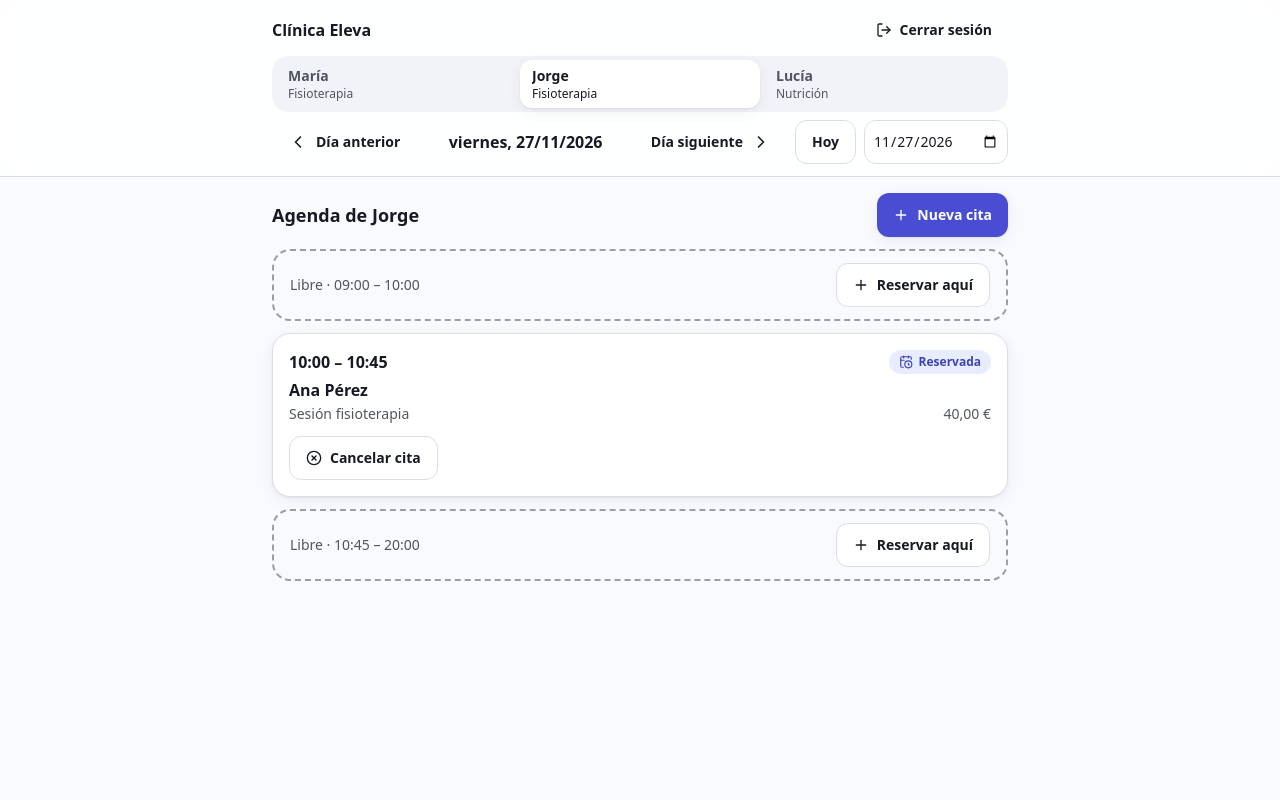
Test: DialogoAltaCita › [001][US2-AC1] al reservar cierra el diálogo, recarga la agenda y muestra «Cita reservada para Ana Pérez a las 10:45.»
Click the button "Reservar aquí" in the row of "10:45 – 20:00": click(913, 545) [836, 523, 990, 567]
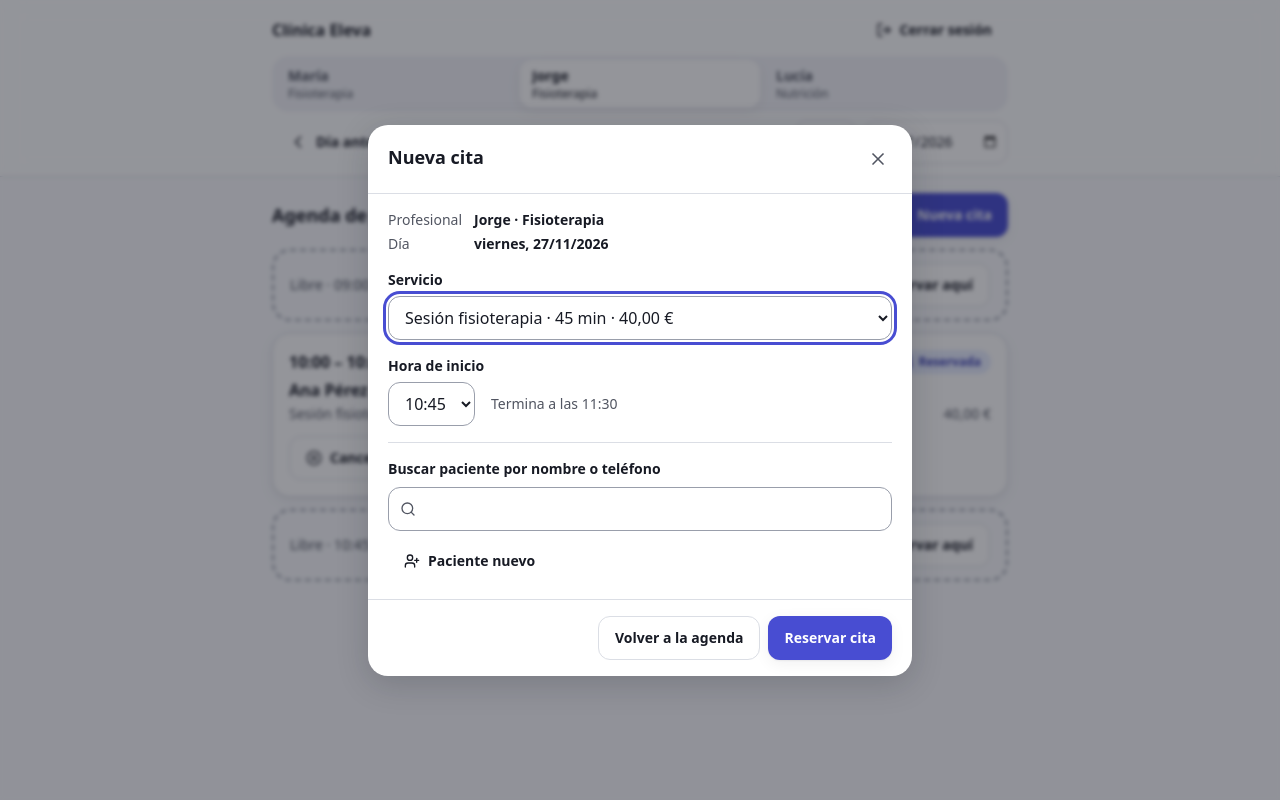
In the dropdown labelled "Buscar paciente por nombre o teléfono": (640, 508) [388, 486, 892, 530], type "ana"
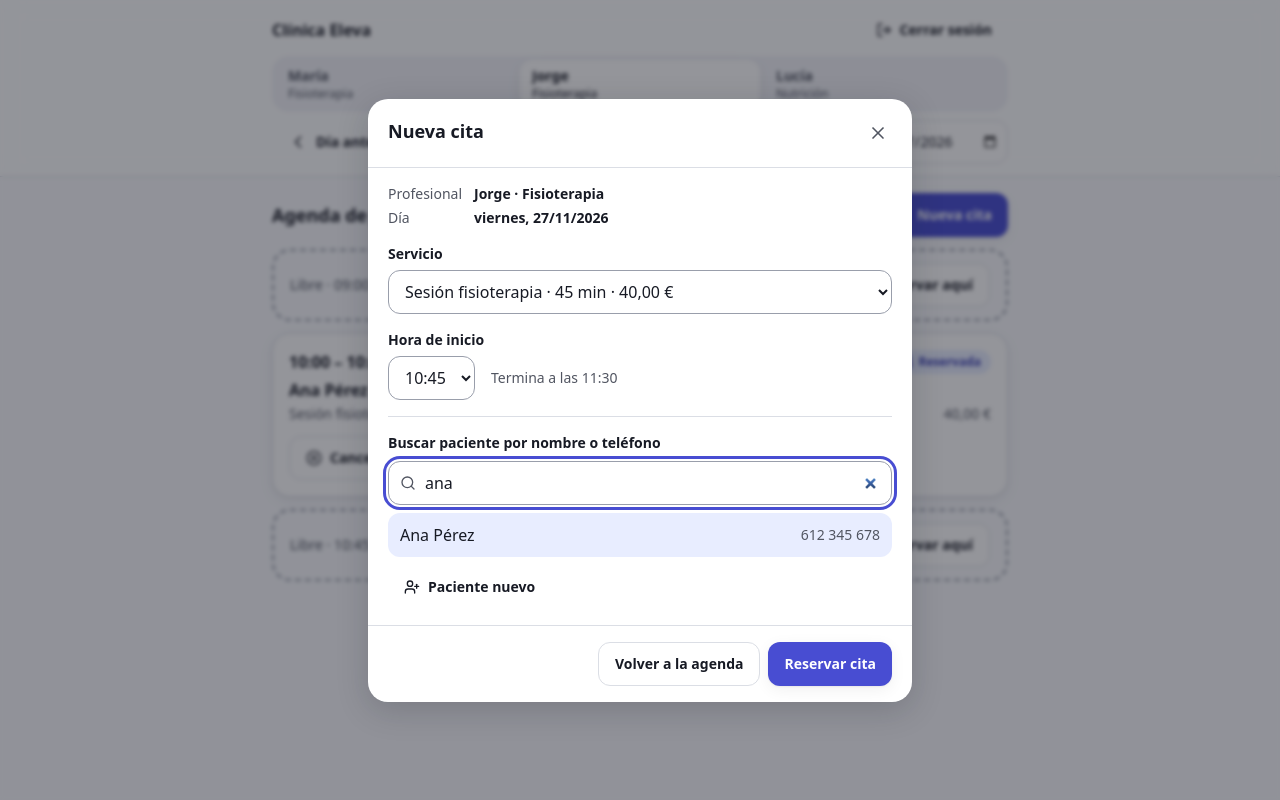
Click the option "Ana Pérez 612 345 678": click(437, 534) [388, 512, 892, 556]
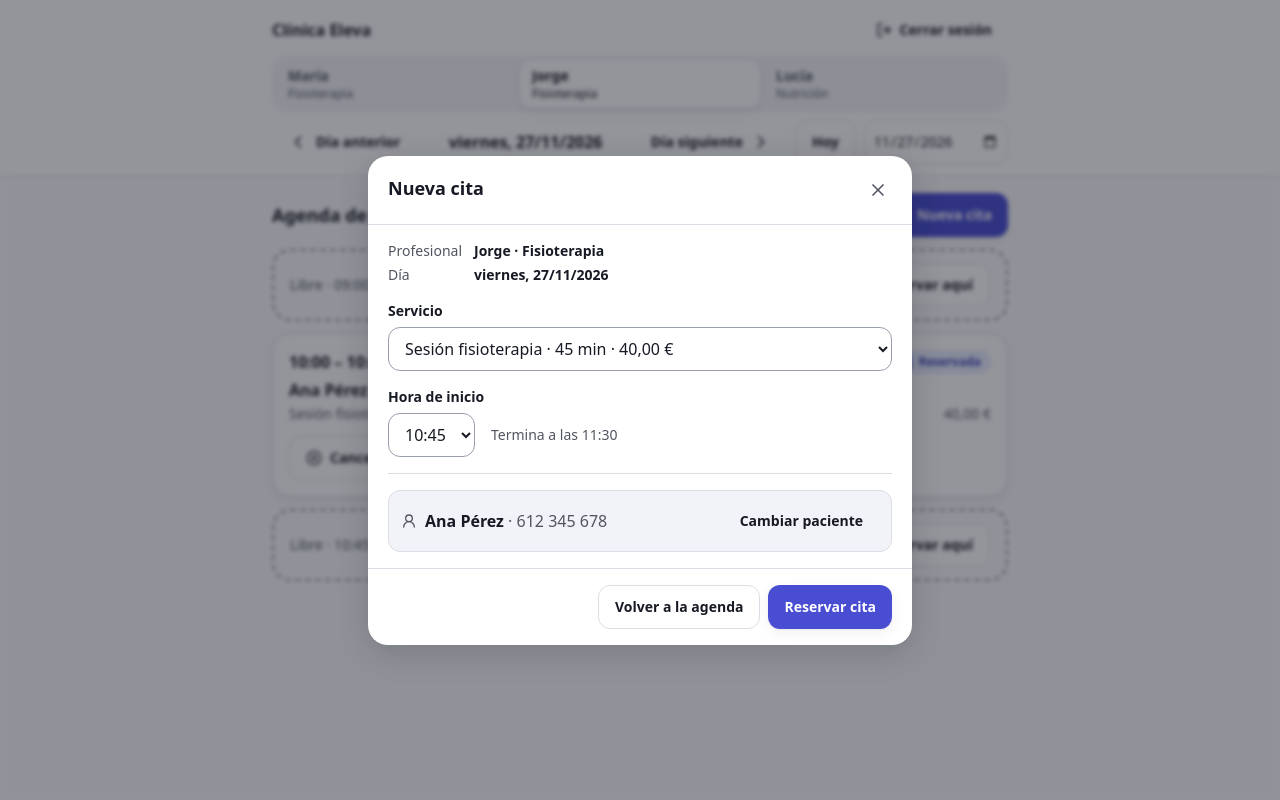
Click the button "Reservar cita": click(830, 606) [768, 584, 892, 628]
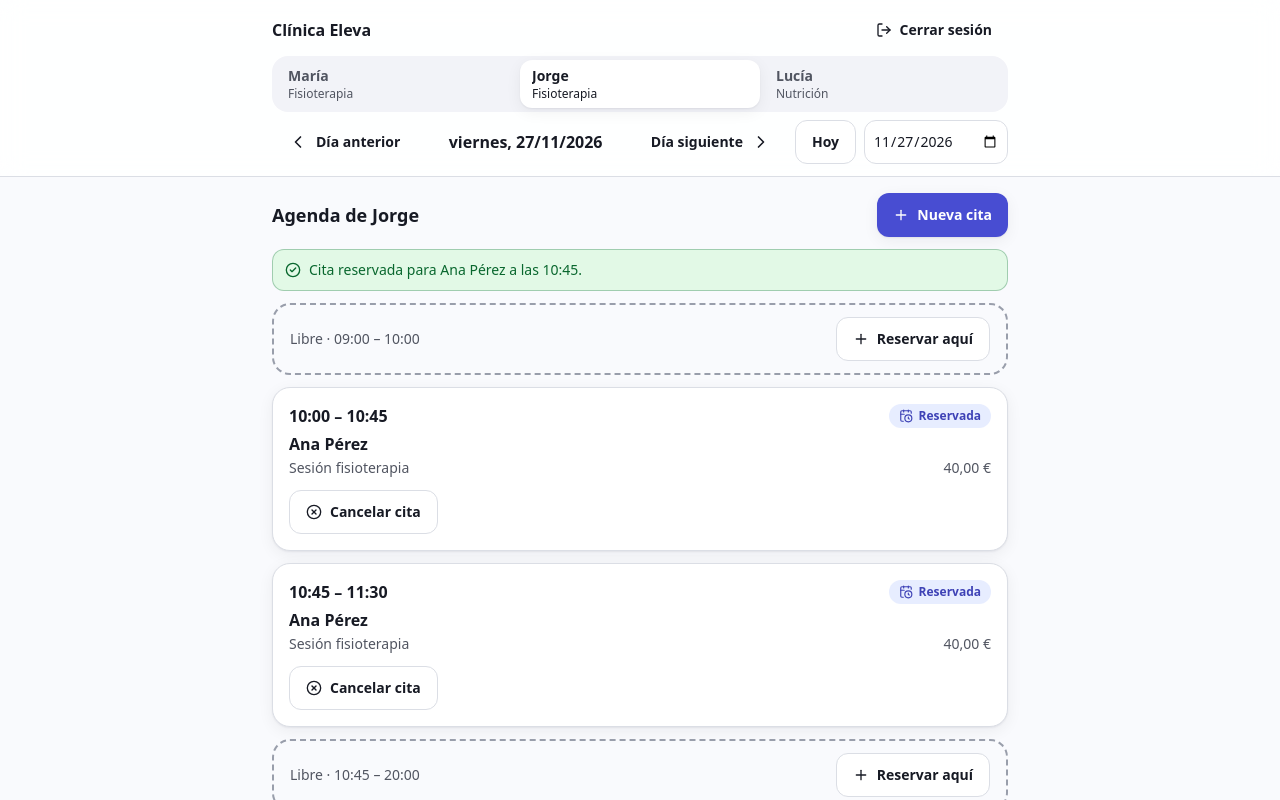
Check: the text "Cita reservada para Ana Pérez a las 10:45." is shown, box [309, 260, 582, 280]
Check: the dialog is gone
